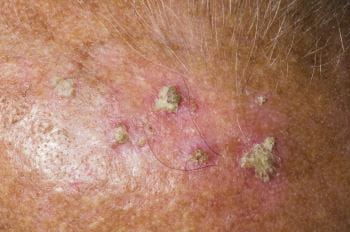Actinic Keratosis: (82, 51, 300, 206)
